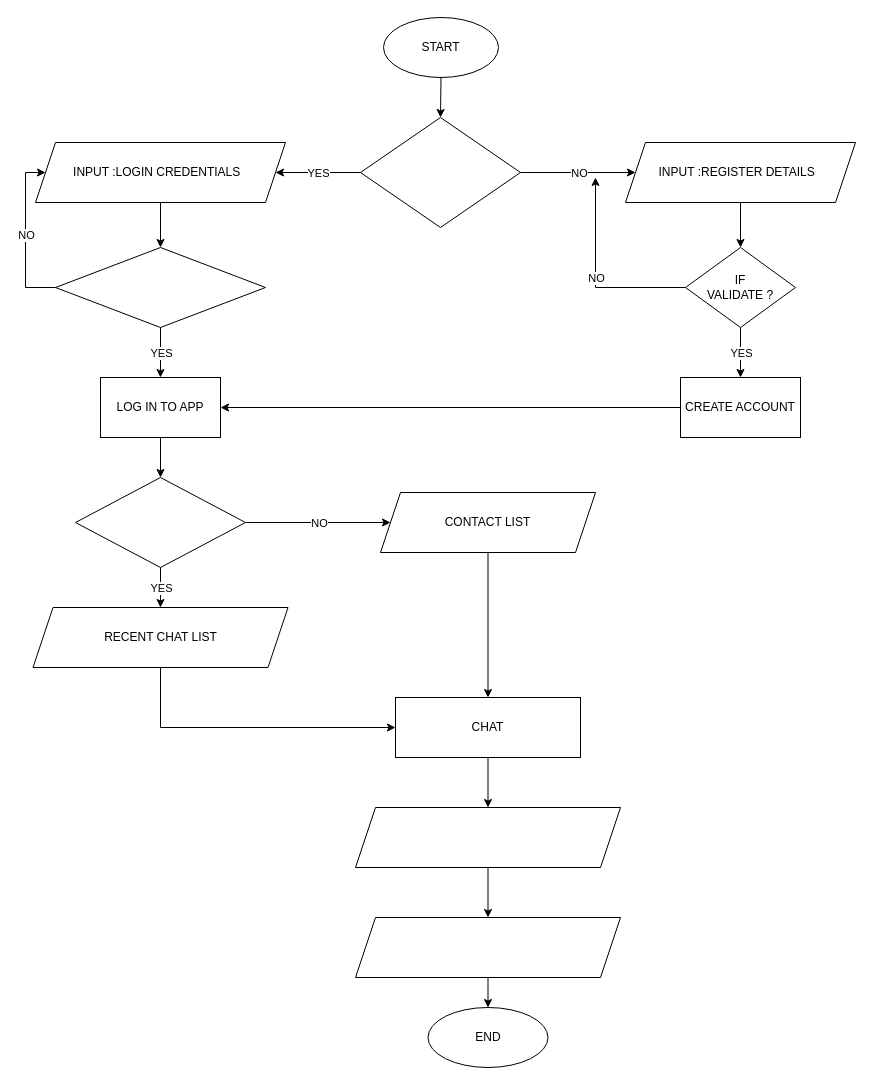
Some shapes in this 873 by 1085 pixel diagram are drawn without their labels. The shapes that lost their labels are listed below. From the top down, each one's box as (x1, y1, x2, y2) in pixels, then its label:
(360, 116, 520, 228): IF HAVE ACCOUNT ?
(54, 246, 266, 328): IF VALIDATE & CORRECT ?
(74, 476, 246, 568): IF HAVE CHAT HISTORY
(354, 806, 620, 868): DISPLAY:MESSAGE
(354, 916, 620, 978): INPUT:MESSAGE
